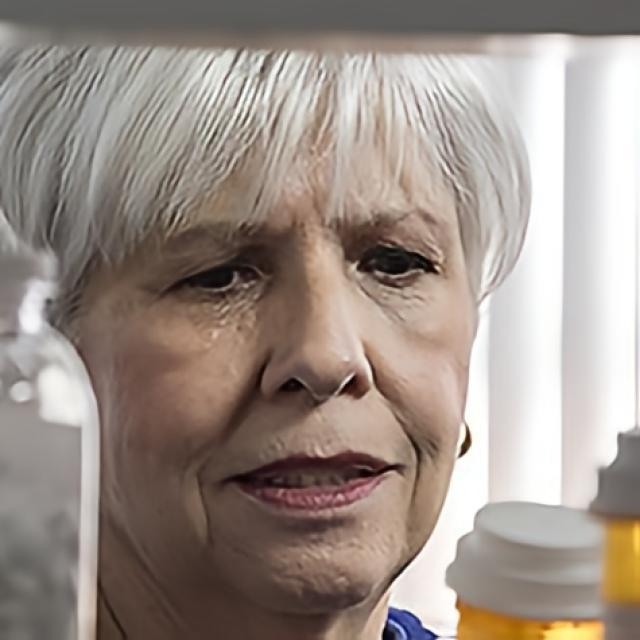sad: (101, 93, 475, 617)
